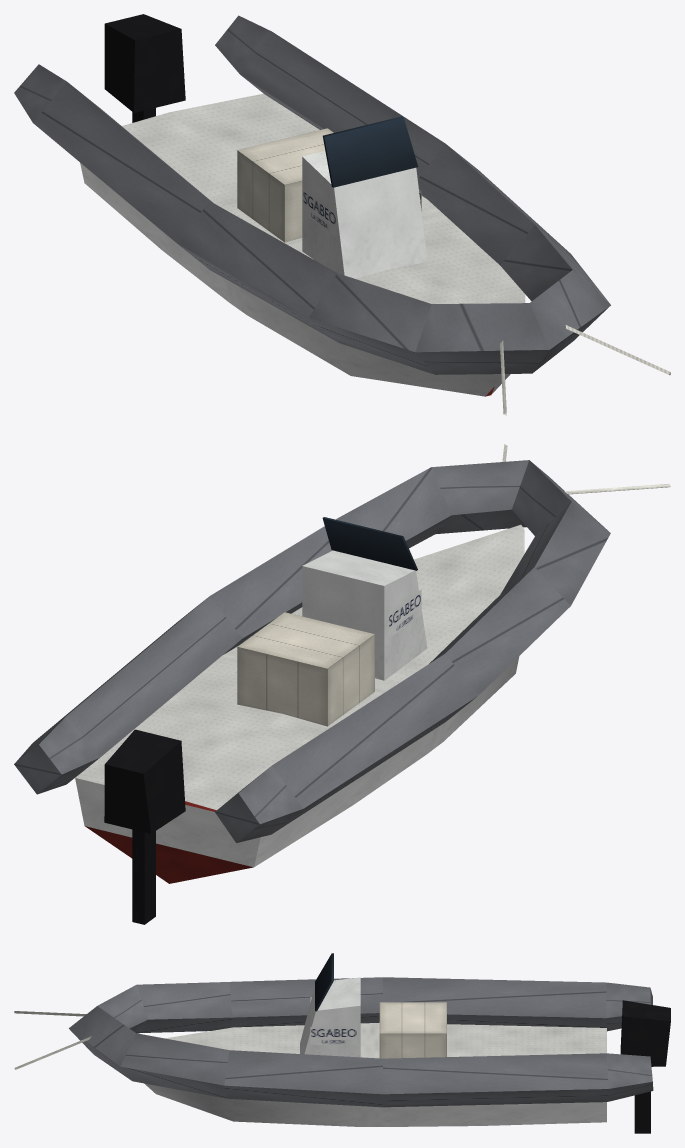
Rendered from SM_Morin_Barca_Gommone_Grigio_Prua_LOD2.fbx.
The picture shows the model from 3 angles, top to bottom: view 1: azimuth 30°, elevation 25°; view 2: azimuth 150°, elevation 25°; view 3: azimuth 270°, elevation 25°; orthographic projection. The views are drawn at different scales.
Visible parts, largest first — view 1: SM_Morin_Barca_Gommone_Grigio_Prua_LOD2; view 2: SM_Morin_Barca_Gommone_Grigio_Prua_LOD2; view 3: SM_Morin_Barca_Gommone_Grigio_Prua_LOD2.
Boxes of the visible parts, x1,y1,x2,y2 form: SM_Morin_Barca_Gommone_Grigio_Prua_LOD2: (14, 14, 670, 415); SM_Morin_Barca_Gommone_Grigio_Prua_LOD2: (14, 444, 670, 924); SM_Morin_Barca_Gommone_Grigio_Prua_LOD2: (14, 953, 670, 1133).
Size of the model in its own units: 220 by 587 by 162.
1 material, 1 textured.
